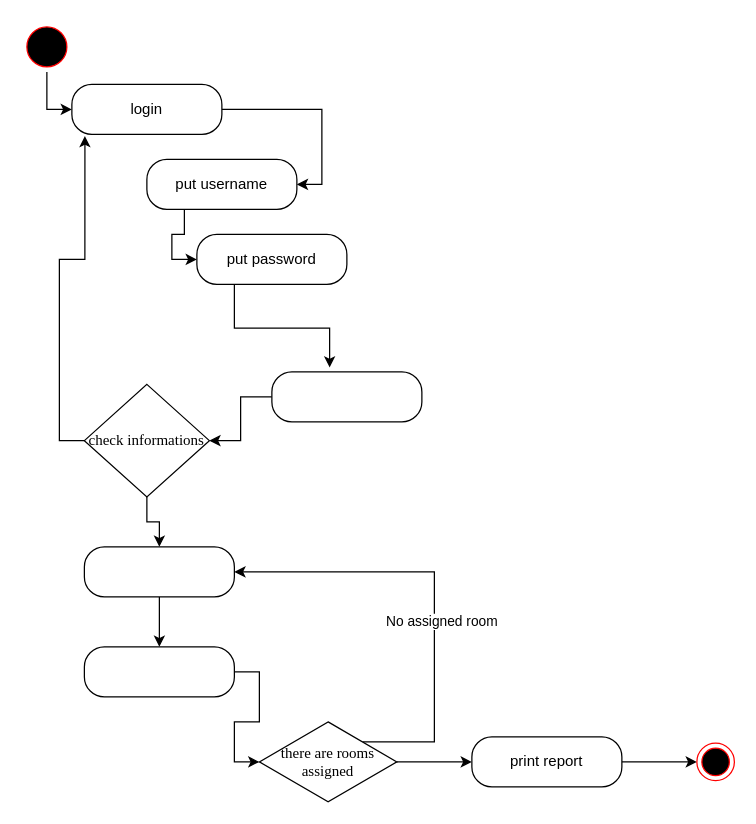
The diagram is 756 pixels wide and 824 high, and some of its shapes have lost their labels. The shapes that lost their labels are listed below. From the top down, each one's centre as x and y in pixels, then its label:
the point at 346,396: click login
the point at 158,571: enter dashboard
the point at 158,671: view rooms assigned
